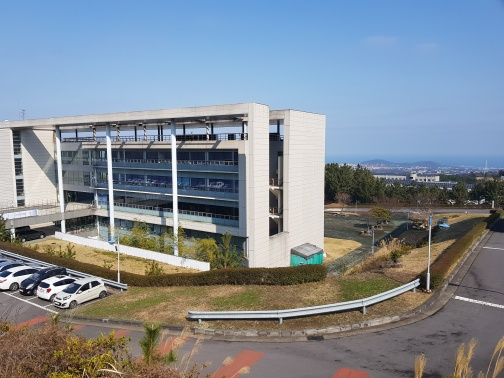Engineering College Building 4: (4, 116, 323, 243), (204, 102, 325, 271), (66, 108, 201, 253)
